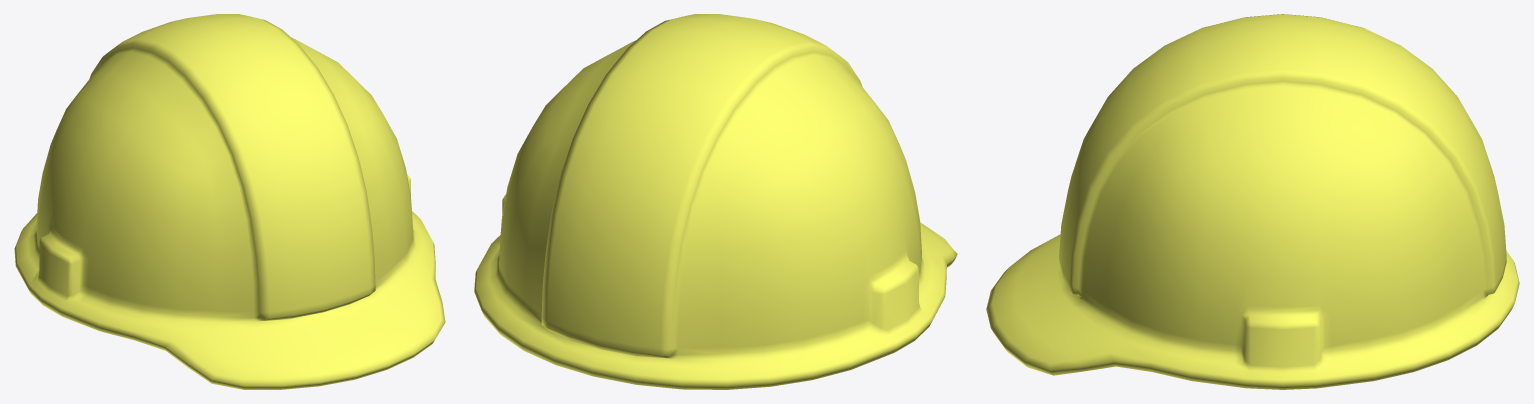
The model's file is SM_ConstructionHat.fbx.
The picture shows the model from 3 angles, left to right: view 1: azimuth 30°, elevation 25°; view 2: azimuth 150°, elevation 25°; view 3: azimuth 270°, elevation 25°; orthographic projection. The views are drawn at different scales.
Visible parts, largest first — view 1: SM_ConstructionHat; view 2: SM_ConstructionHat; view 3: SM_ConstructionHat.
Boxes of the visible parts, box(x1,y1,x2,y2) form: SM_ConstructionHat: box(14, 14, 445, 389); SM_ConstructionHat: box(474, 14, 957, 389); SM_ConstructionHat: box(986, 14, 1519, 389).
Bounding box in the file's own units: 436 × 284 × 485.
